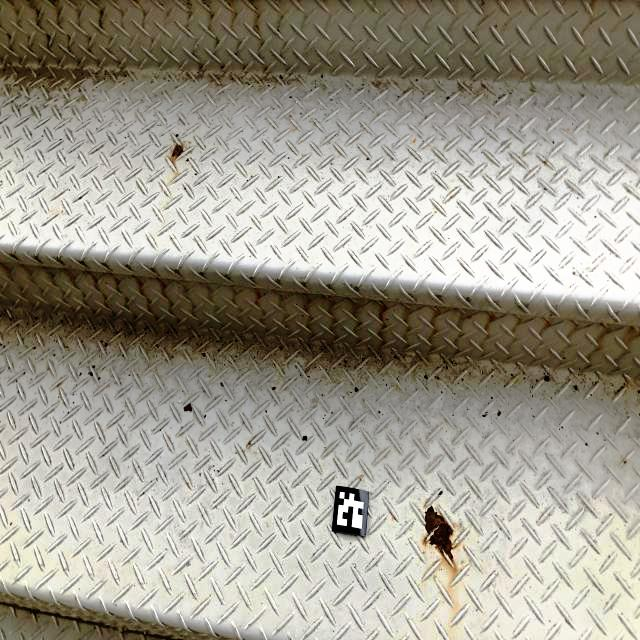Corrosion: (424, 505, 459, 573), (170, 143, 185, 161), (424, 498, 431, 506), (392, 516, 398, 521), (413, 139, 416, 143), (423, 551, 425, 554), (189, 141, 191, 144)
